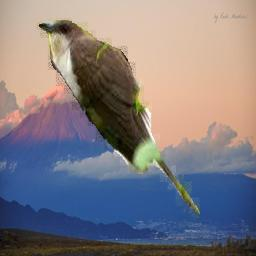Cuckoo: (37, 18, 202, 218)
